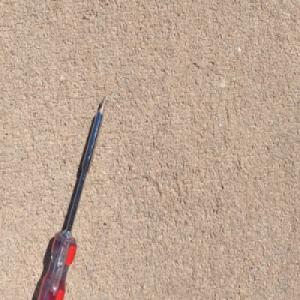Screwdriver: (32, 95, 108, 300)
